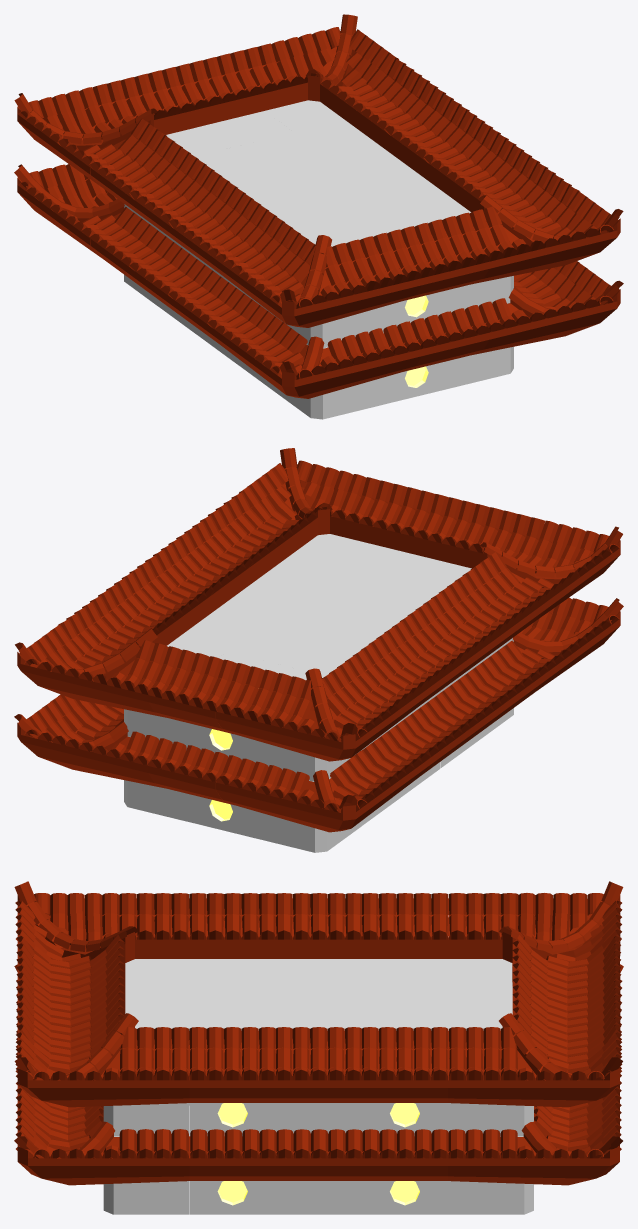
Rendered from #1 Homes.fbx.
The picture shows the model from 3 angles, top to bottom: view 1: azimuth 30°, elevation 25°; view 2: azimuth 150°, elevation 25°; view 3: azimuth 270°, elevation 25°; orthographic projection. The views are drawn at different scales.
Parts seen in each view (by area): view 1: Cube; view 2: Cube; view 3: Cube.
Part boxes in pixels (x1,y1,x2,y2): Cube: [14, 14, 623, 419]; Cube: [14, 448, 623, 852]; Cube: [14, 881, 623, 1214].
Bounding box in the file's own units: 508 × 244 × 709.
